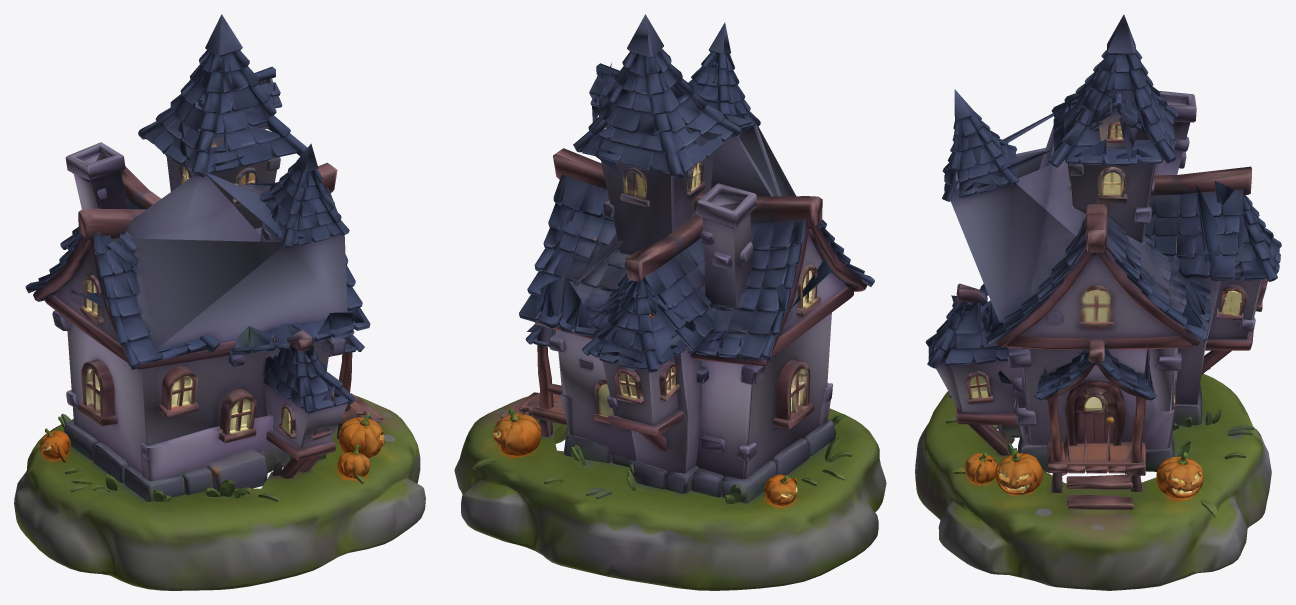
Rendered from L3_HauntedManor_LOD0.fbx.
The picture shows the model from 3 angles, left to right: view 1: azimuth 30°, elevation 25°; view 2: azimuth 150°, elevation 25°; view 3: azimuth 270°, elevation 25°; orthographic projection. The views are drawn at different scales.
Parts seen in each view (by area): view 1: L3_HauntedManor_LOD0; view 2: L3_HauntedManor_LOD0; view 3: L3_HauntedManor_LOD0.
Part boxes in pixels (x1=…): L3_HauntedManor_LOD0: x1=14, y1=14, x2=425, y2=590; L3_HauntedManor_LOD0: x1=454, y1=14, x2=886, y2=590; L3_HauntedManor_LOD0: x1=915, y1=14, x2=1281, y2=590.
Bounding box in the file's own units: 7.15 × 9 × 6.05.
